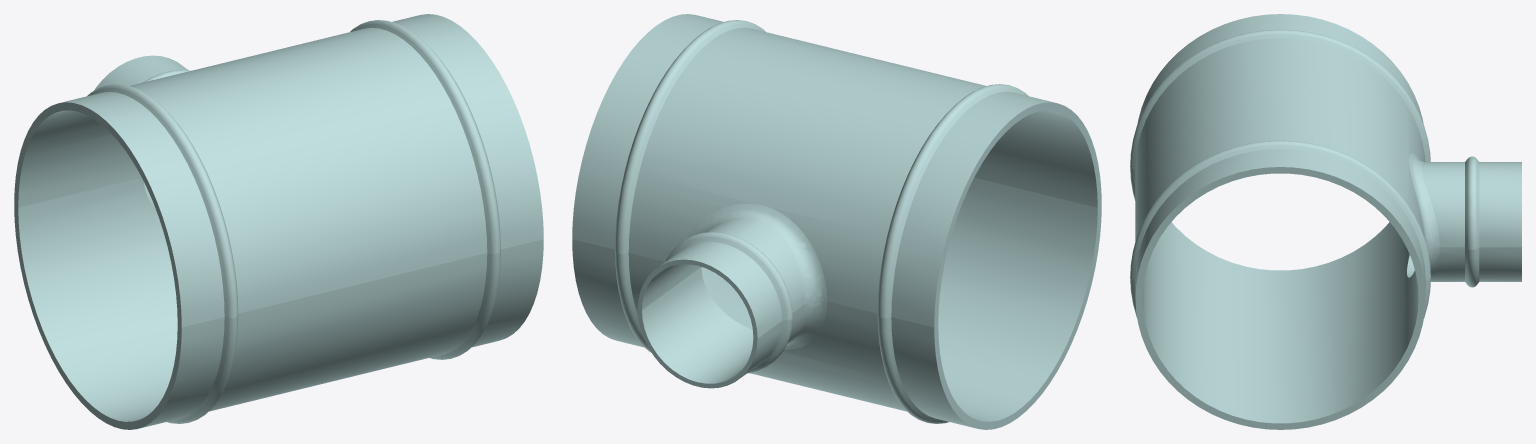
3 renders of one model, left to right at view 1: azimuth 30°, elevation 25°; view 2: azimuth 150°, elevation 25°; view 3: azimuth 270°, elevation 25°, orthographic. The views are drawn at different scales.
Bounding box in the file's own units: 255 × 212 × 276.
